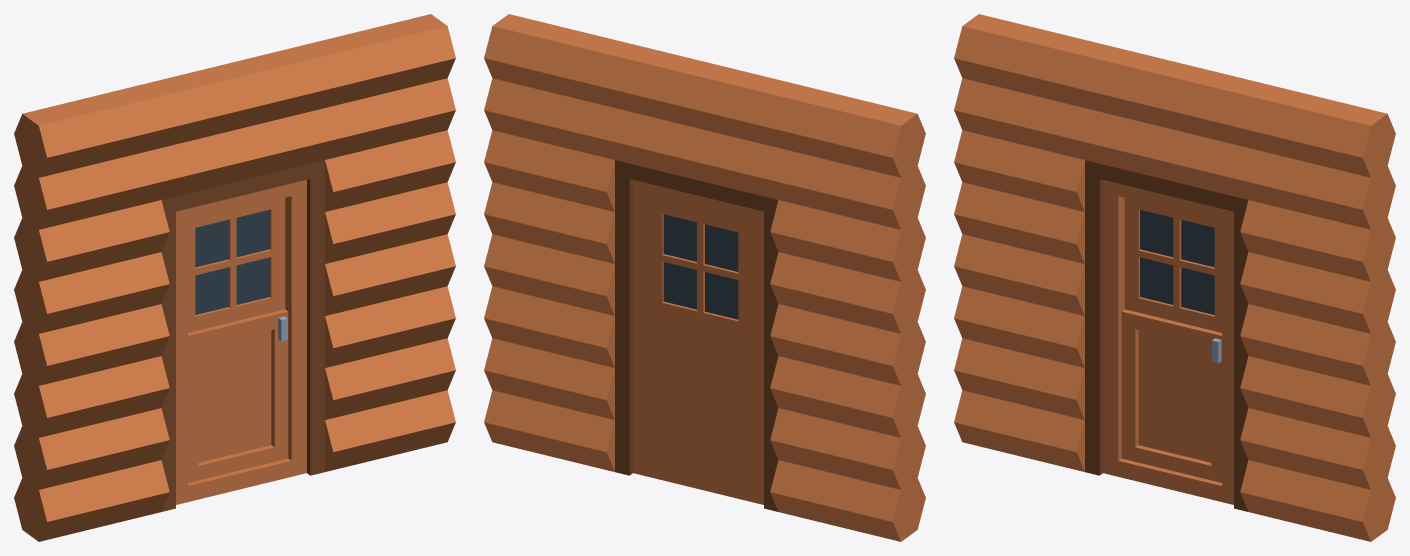
Rendered from cabinDoor.fbx.
The picture shows the model from 3 angles, left to right: view 1: azimuth 30°, elevation 25°; view 2: azimuth 150°, elevation 25°; view 3: azimuth 330°, elevation 25°; orthographic projection.
Visible parts, largest first — view 1: cabinDoor, door; view 2: cabinDoor, door; view 3: cabinDoor, door.
Part boxes in pixels (x1,y1,x2,y2): cabinDoor: (14,14,455,541); door: (176,180,306,504); cabinDoor: (484,14,925,541); door: (633,180,763,504); cabinDoor: (954,14,1395,541); door: (1103,180,1233,504).
Bounding box in the file's own units: 10 × 9.73 × 1.4.
